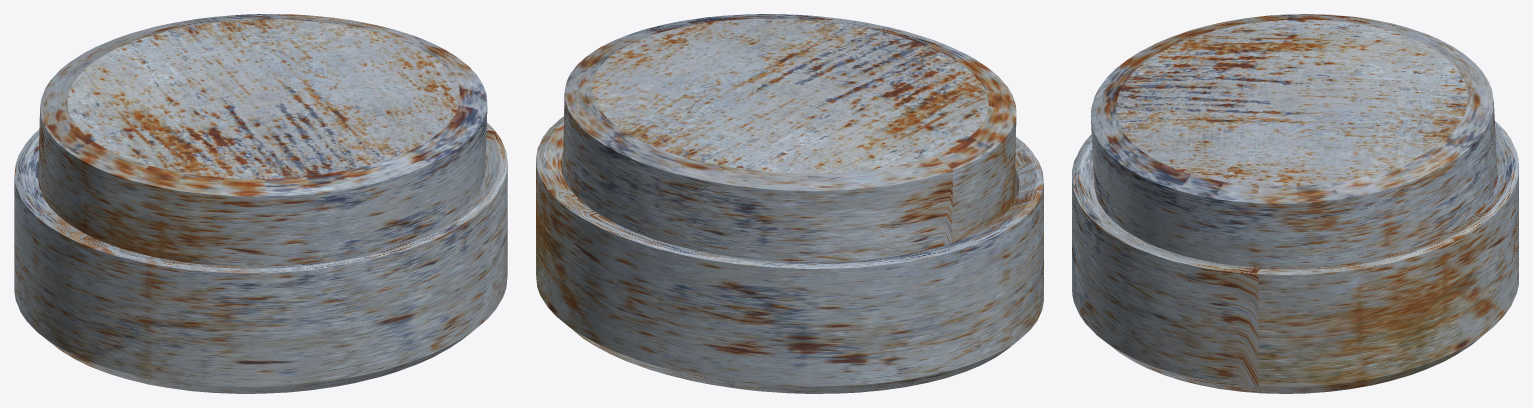
File: Botao.fbx
3 renders of one model, left to right at view 1: azimuth 30°, elevation 25°; view 2: azimuth 150°, elevation 25°; view 3: azimuth 270°, elevation 25°, orthographic. The views are drawn at different scales.
Visible parts, largest first — view 1: Botao, Base; view 2: Botao, Base; view 3: Botao, Base.
Part boxes in pixels (x1,y1,x2,y2): Botao: (38,14,487,266); Base: (14,122,507,393); Botao: (562,14,1016,262); Base: (536,116,1043,393); Botao: (1090,14,1496,268); Base: (1072,120,1518,393).
Size of the model in its own units: 1.59 by 0.7236 by 1.45.
Materials: 2 (2 with a texture image).
